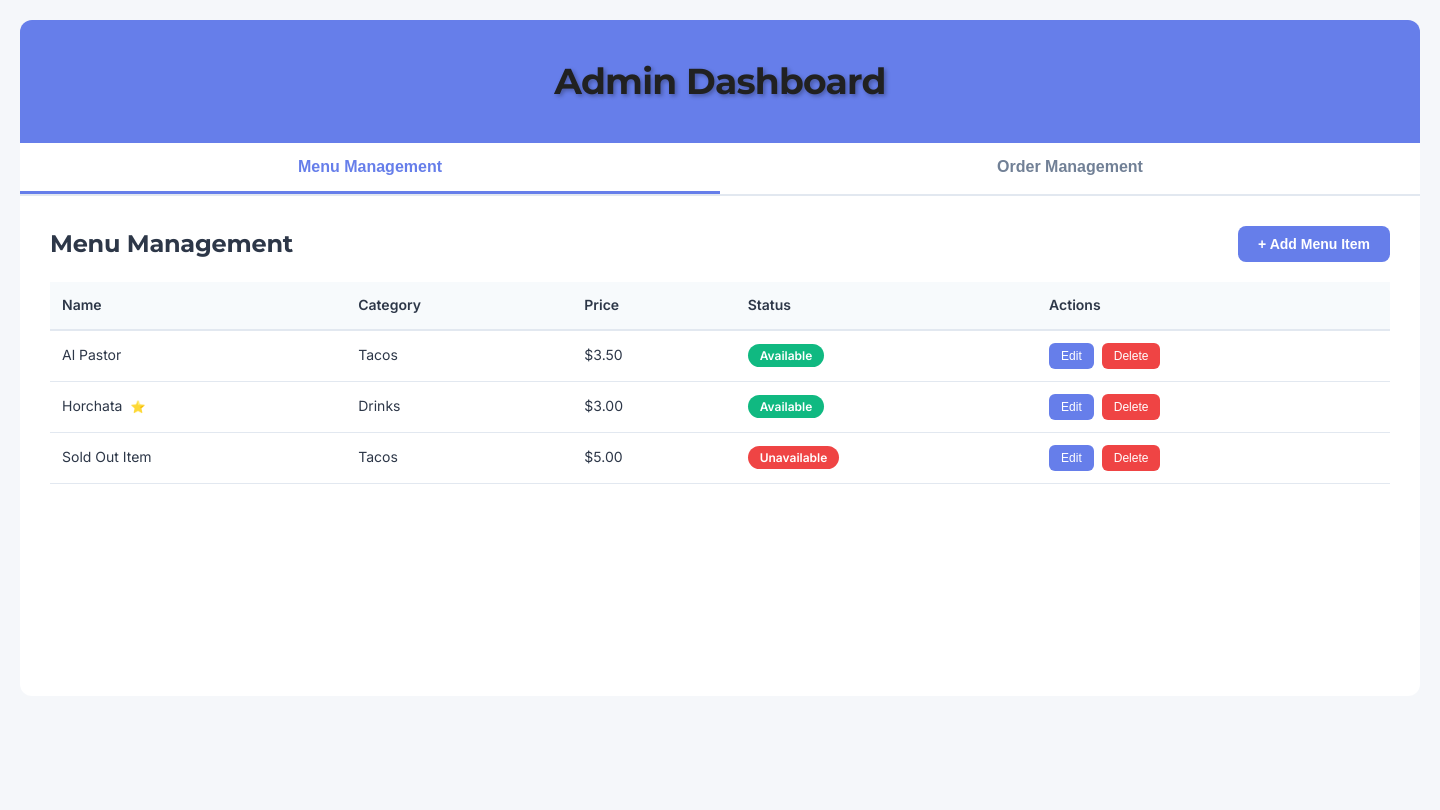
Test: AdminDashboard Page › opens and closes create menu item form
Click the button "+ Add Menu Item": (1314, 244) x1=1238 y1=226 x2=1390 y2=262
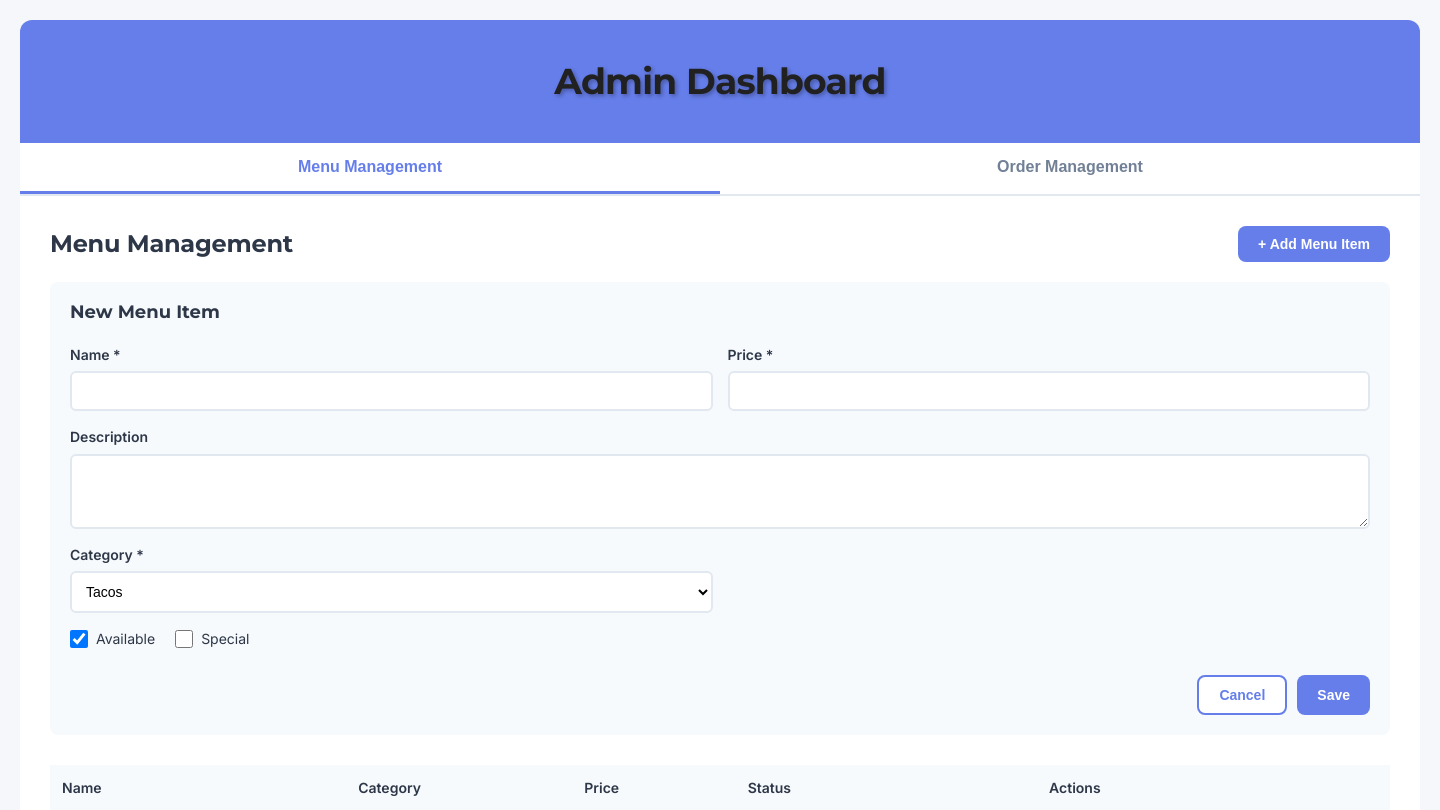
Now the heading "New Menu Item" is shown, box x1=70 y1=301 x2=220 y2=323
Click the button "Cancel": (1242, 695) x1=1197 y1=675 x2=1287 y2=715
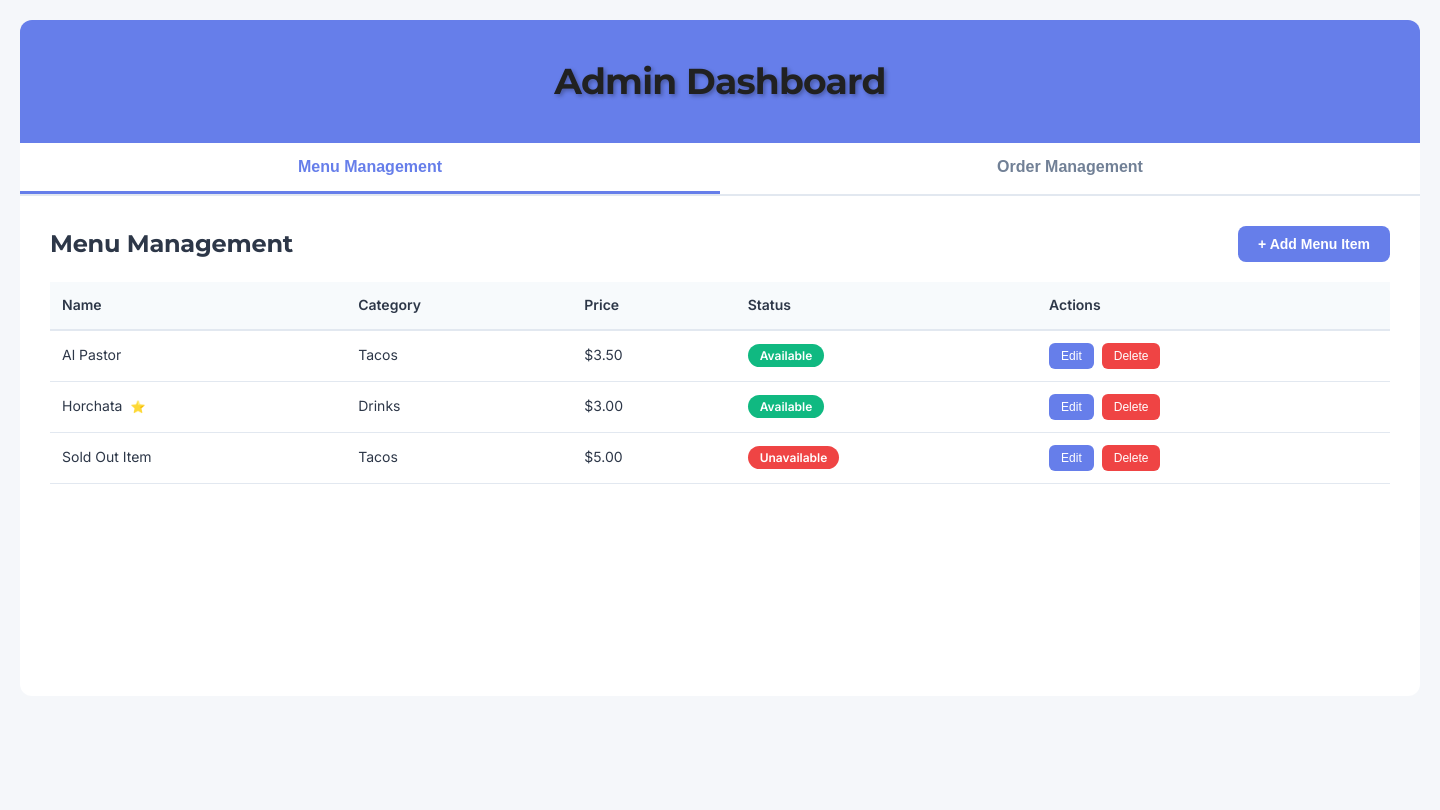
Now the heading "New Menu Item" is gone
